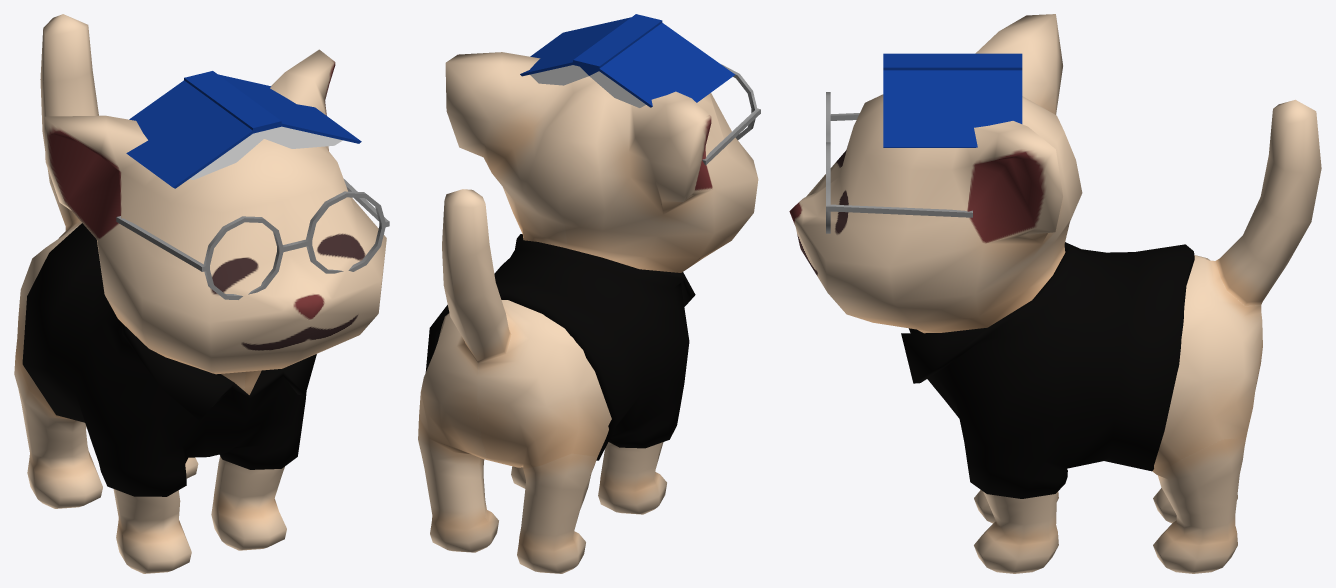
File: Library Cat01.fbx
3 views of the same model, side by side, from view 1: azimuth 30°, elevation 25°; view 2: azimuth 150°, elevation 25°; view 3: azimuth 270°, elevation 25° (orthographic). The views are drawn at different scales.
Visible parts, largest first — view 1: Cat_Base, Library_Cat_Shirt, Library_Cat_BookHat, Library_Cat_Glasses; view 2: Cat_Base, Library_Cat_Shirt, Library_Cat_BookHat, Library_Cat_Glasses; view 3: Cat_Base, Library_Cat_Shirt, Library_Cat_BookHat, Library_Cat_Glasses.
Boxes of the visible parts, box(x1,y1,x2,y2) form: Cat_Base: box(14, 14, 386, 573); Library_Cat_Shirt: box(22, 223, 316, 496); Library_Cat_BookHat: box(126, 71, 361, 188); Library_Cat_Glasses: box(116, 178, 389, 299); Cat_Base: box(418, 52, 758, 573); Library_Cat_Shirt: box(425, 234, 695, 460); Library_Cat_BookHat: box(520, 14, 735, 107); Library_Cat_Glasses: box(702, 64, 760, 165); Cat_Base: box(789, 14, 1321, 573); Library_Cat_Shirt: box(901, 242, 1194, 498); Library_Cat_BookHat: box(883, 53, 1022, 147); Library_Cat_Glasses: box(826, 92, 972, 233).
Bounding box in the file's own units: 1.75 × 2.83 × 2.81.
Materials: 5 (1 with a texture image).
